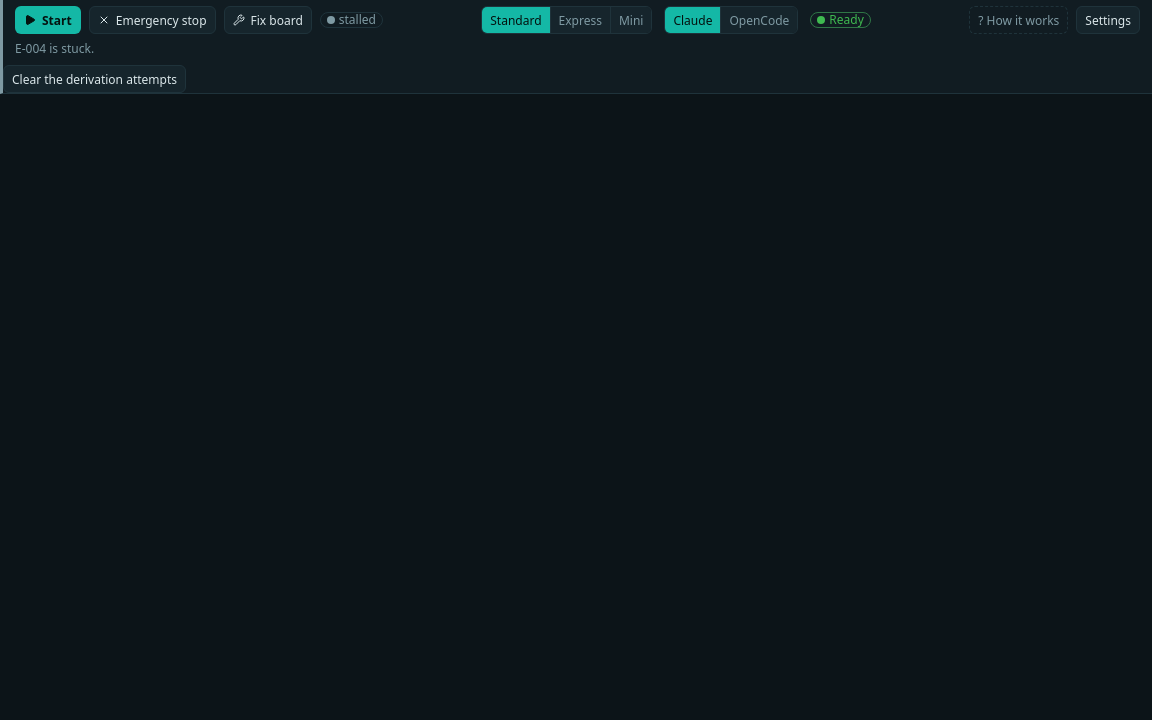
Fix board › asks first, naming the powers it hands over, and does nothing if you decline
Click the button with test id "ap-fix-board": (268, 20) [224,6,312,34]
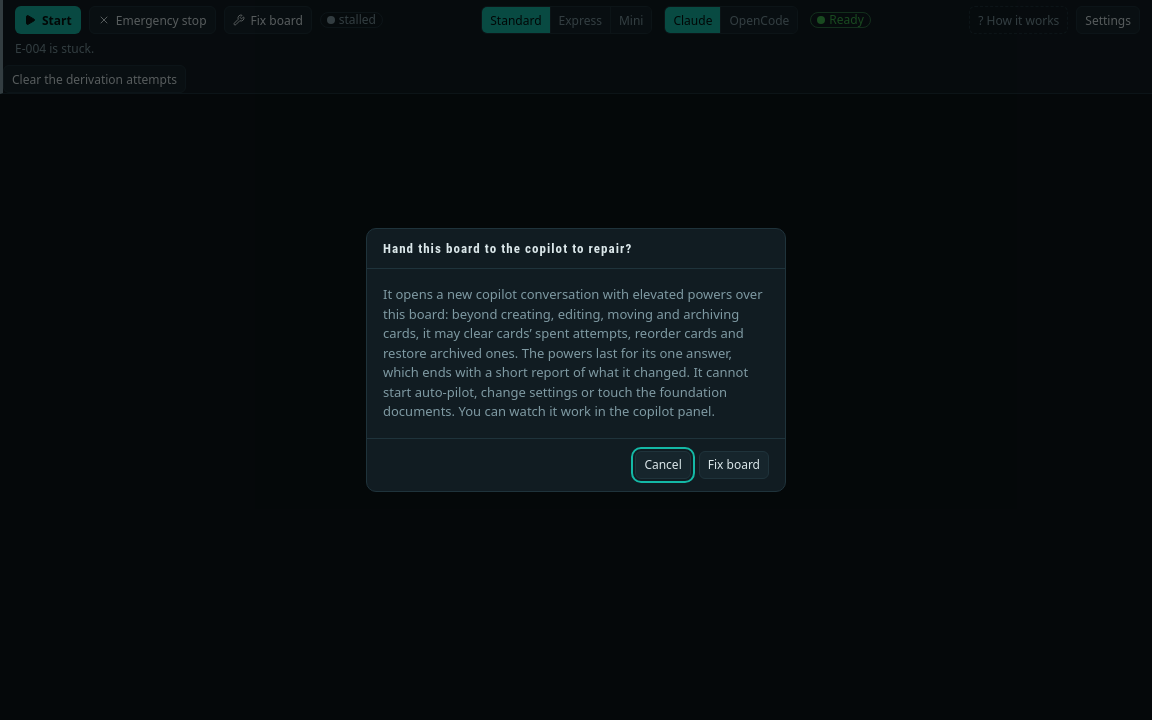
Now the text "Hand this board to the copilot to repair?" is shown, box [383,241,632,256]
Now the text "It cannot start auto-pilot" is shown, box [383,285,762,420]
Click the button "Cancel": (663, 465) [635,451,691,479]
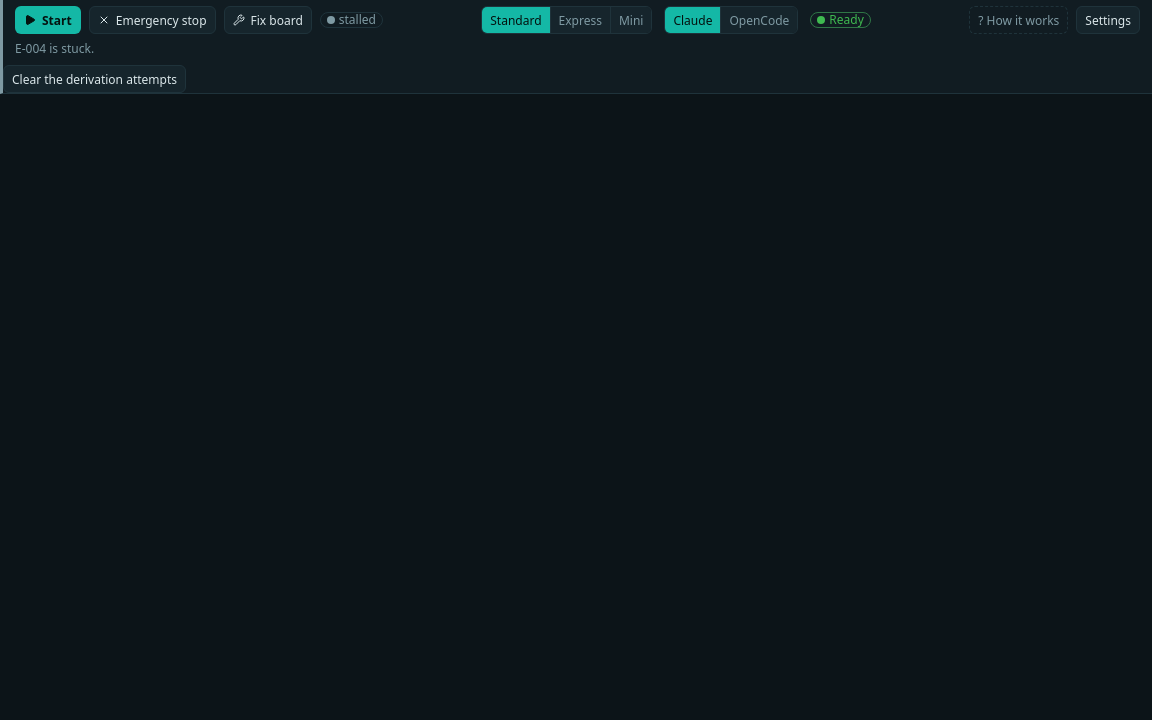
Now the text "Hand this board to the copilot" is gone
